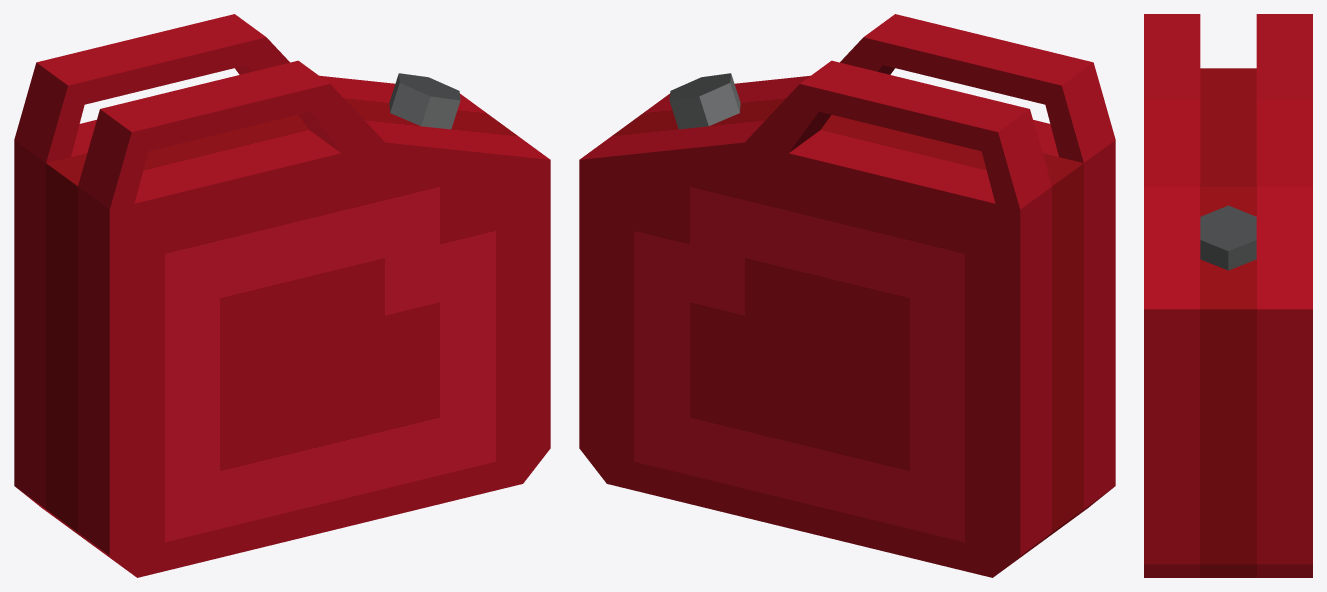
Rendered from fuelCan.fbx.
The picture shows the model from 3 angles, left to right: view 1: azimuth 30°, elevation 25°; view 2: azimuth 150°, elevation 25°; view 3: azimuth 270°, elevation 25°; orthographic projection. The views are drawn at different scales.
Parts seen in each view (by area): view 1: cuboid, cylinder; view 2: cuboid, cylinder; view 3: cuboid, cylinder.
Boxes of the visible parts, x1,y1,x2,y2 form: cuboid: (14,14,550,577); cylinder: (389,73,460,129); cuboid: (579,14,1115,577); cylinder: (669,73,740,129); cuboid: (1144,14,1312,577); cylinder: (1200,205,1256,270).
Size of the model in its own units: 50 by 48.44 by 18.75.
